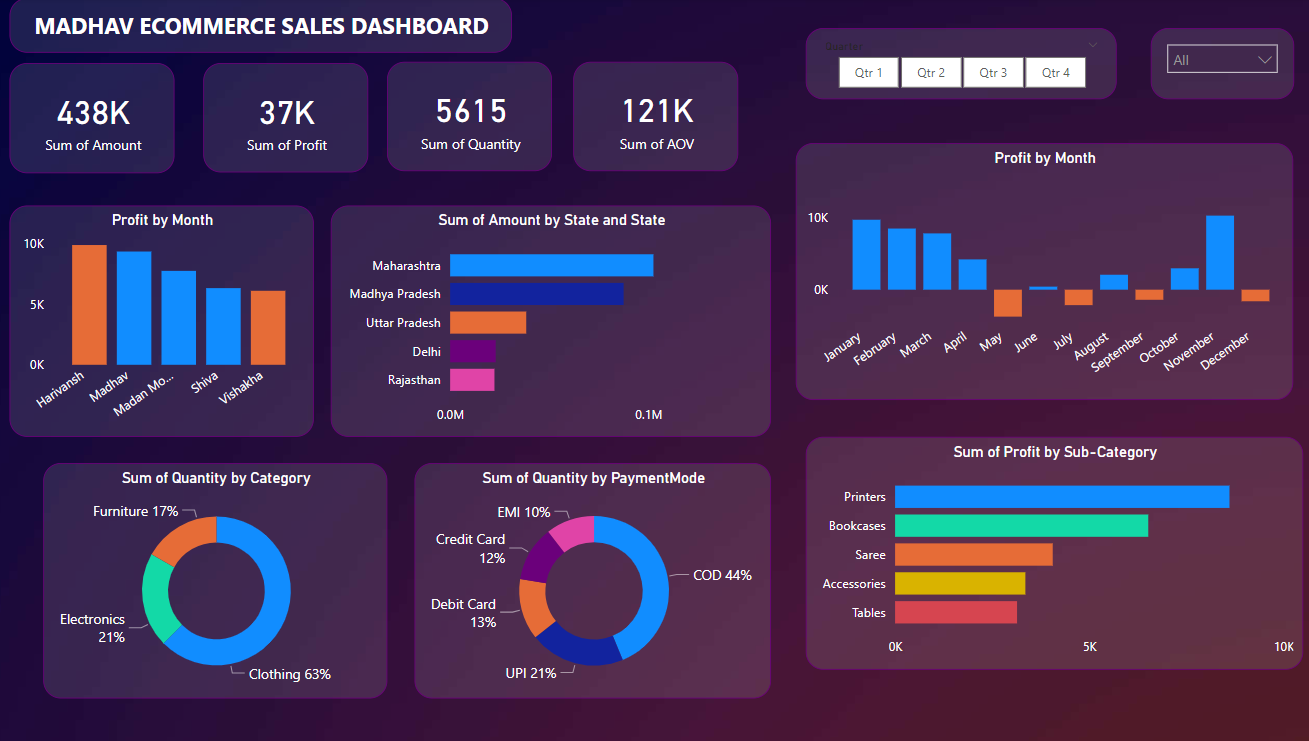

The page's visual inventory and layout, read from the dashboard file:
{"tool":"powerbi","page":{"name":"Page 1","canvas":[1280,720],"ordinal":0},"visuals":[{"type":"textbox","box":[16.9,0,484.8,53.1],"z":0},{"type":"columnChart","title":"Profit by Month","fields":{"Y":["Details.Profit"],"Category":["Orders.Order Date.Variation.Date Hierarchy.Month"]},"box":[776,139.8,479.9,248.2],"z":1000},{"type":"barChart","fields":{"Category":["Details.Sub-Category"],"Y":["Details.Profit"]},"box":[785.6,423.7,479.9,224.9],"z":2000},{"type":"donutChart","fields":{"Category":["Details.Category"],"Y":["Details.Quantity"]},"box":[49.4,448.3,331.8,227.6],"z":3000},{"type":"donutChart","fields":{"Y":["Details.Quantity"],"Category":["Details.PaymentMode"]},"box":[407.2,448.3,344.1,227.6],"z":4000},{"type":"card","fields":{"Values":["Details.Amount"]},"box":[16.9,62.7,159.2,106.1],"z":5000},{"type":"card","fields":{"Values":["Details.Profit"]},"box":[204.3,63.1,159,105.6],"z":6000},{"type":"card","fields":{"Values":["Details.Quantity"]},"box":[381.2,61.7,159,105.6],"z":7000},{"type":"card","fields":{"Values":["Details.AOV"]},"box":[560.8,61.7,159,105.6],"z":8000},{"type":"barChart","fields":{"Series":["Orders.State"],"Category":["Orders.State"],"Y":["Details.Amount"]},"box":[326.3,200.2,425,223.5],"z":9000},{"type":"columnChart","title":"Profit by Month","fields":{"Category":["Orders.CustomerName"],"Y":["Details.Amount"]},"box":[16.5,200.2,293.4,223.5],"z":10000},{"type":"slicer","fields":{"Values":["Orders.Order Date.Variation.Date Hierarchy.Quarter"]},"box":[785.6,28.8,300.3,68.6],"z":11000},{"type":"slicer","fields":{"Values":["Orders.State"]},"box":[1117.4,28.8,138.5,68.6],"z":12000}]}

Visuals, with their boxes in screenshot pixels (x1, y1, x2, y2), scaled from the page's 1280x720 canvas onto the 1309x741 screenshot:
textbox: rect(17, 0, 513, 55)
"Profit by Month" columnChart: rect(794, 144, 1284, 399)
barChart - Details.Sub-Category x Details.Profit: rect(803, 436, 1294, 668)
donutChart - Details.Category x Details.Quantity: rect(51, 461, 390, 696)
donutChart - Details.Quantity x Details.PaymentMode: rect(416, 461, 768, 696)
card - Details.Amount: rect(17, 65, 180, 174)
card - Details.Profit: rect(209, 65, 372, 174)
card - Details.Quantity: rect(390, 63, 552, 172)
card - Details.AOV: rect(574, 63, 736, 172)
barChart - Orders.State x Orders.State: rect(334, 206, 768, 436)
"Profit by Month" columnChart: rect(17, 206, 317, 436)
slicer - Orders.Order Date.Variation.Date Hierarchy.Quarter: rect(803, 30, 1111, 100)
slicer - Orders.State: rect(1143, 30, 1284, 100)
